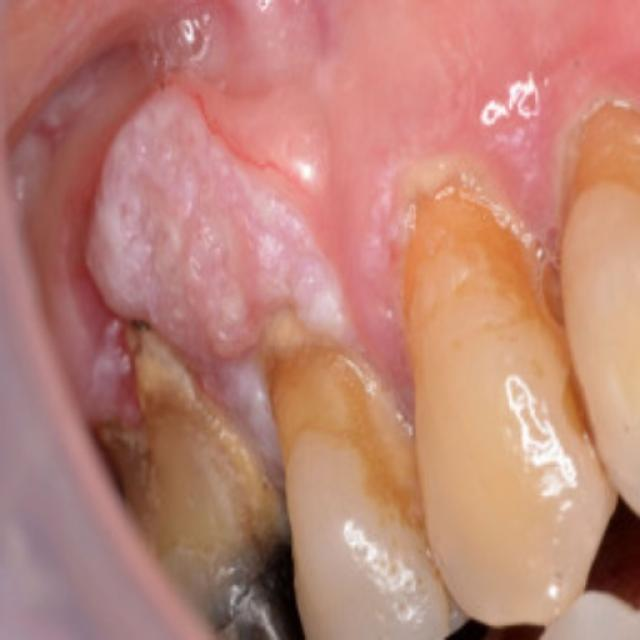leukoplakia-like-detection: (5, 8, 420, 469)
processing_area: (0, 0, 639, 639)
